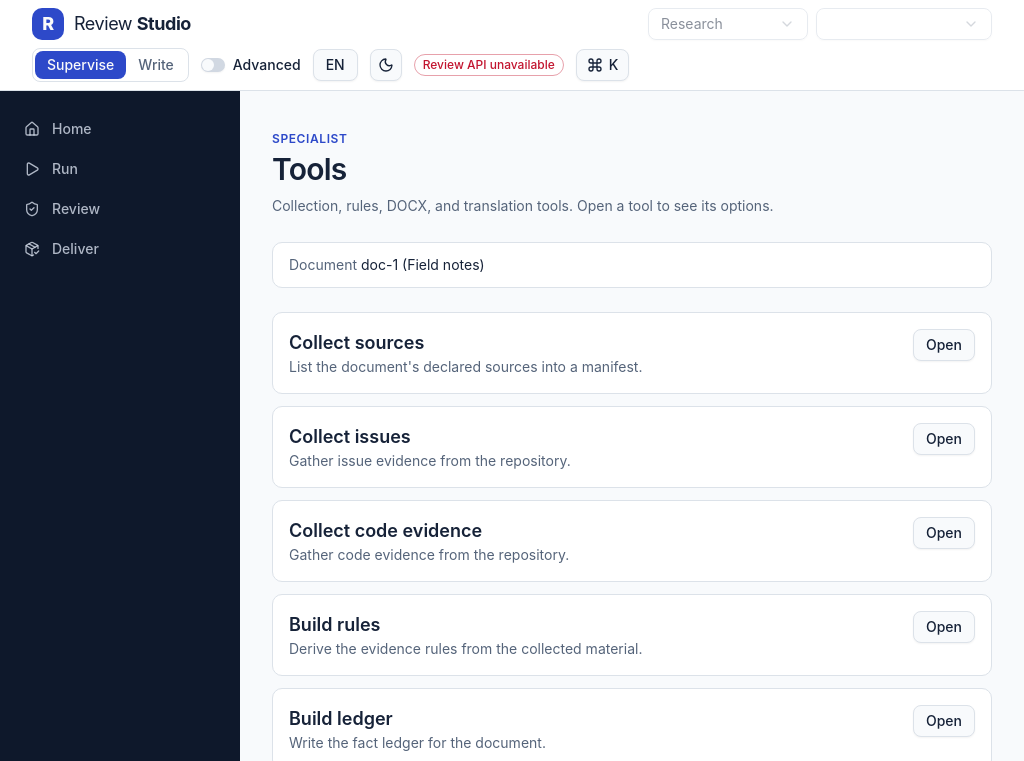
tools area › keeps every tool collapsed until it is opened (progressive disclosure)
The width and height of the screenshot is (1024, 761).
Click the button with aria-label "Open Collect issues" at point(944, 439), box [913, 423, 975, 455]
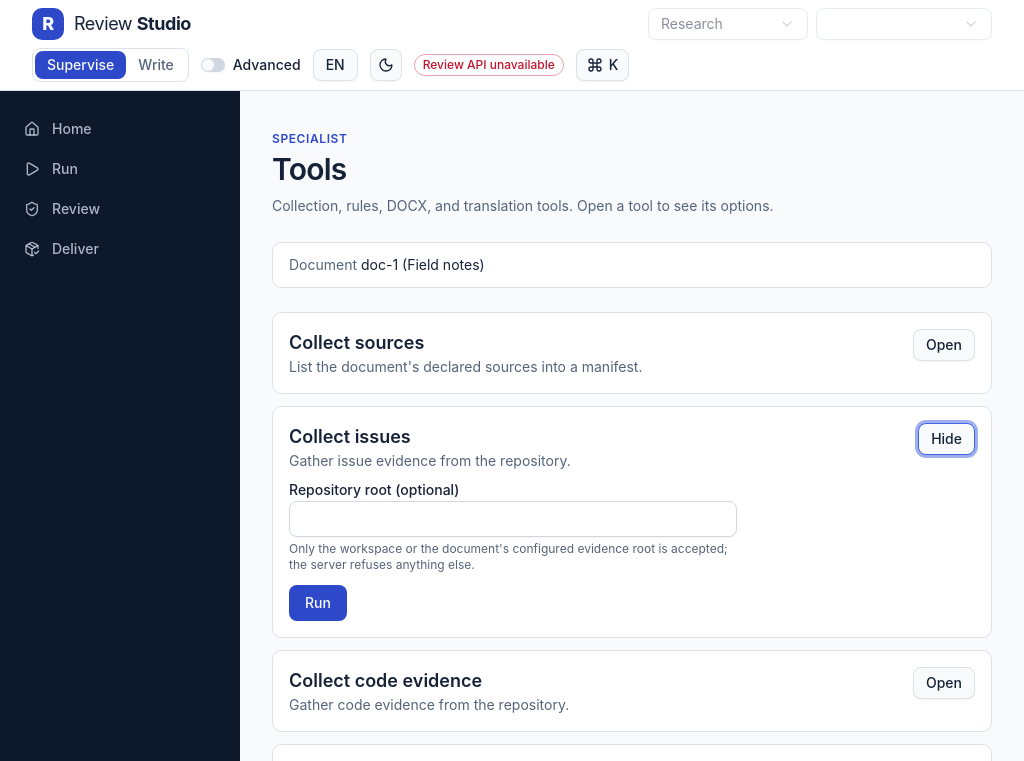
Now the button with aria-label "Run Collect issues" is shown, box [289, 585, 347, 621]
Now the button with aria-label "Open Collect issues" is expanded, box [918, 423, 975, 455]
